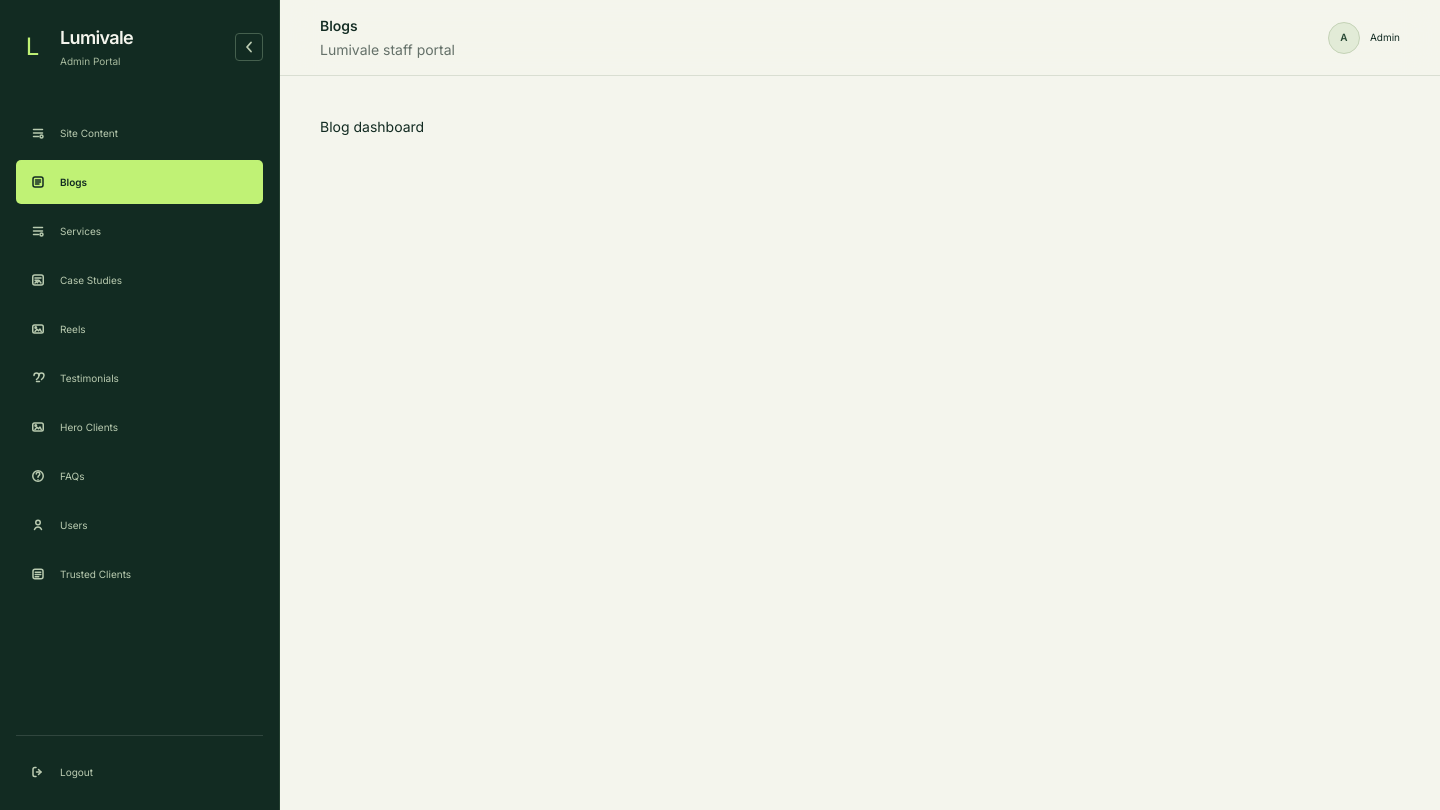
it: admin shell › hides the desktop logo block and reduces the workspace offset when collapsed
The image size is (1440, 810).
Expected: the text "Lumivale" is shown, [60,27,133,48]
Expected: the text "Admin Portal" is shown, [60,55,120,67]
Click the button named "Collapse navigation" at (249, 46), box [235,32,263,60]
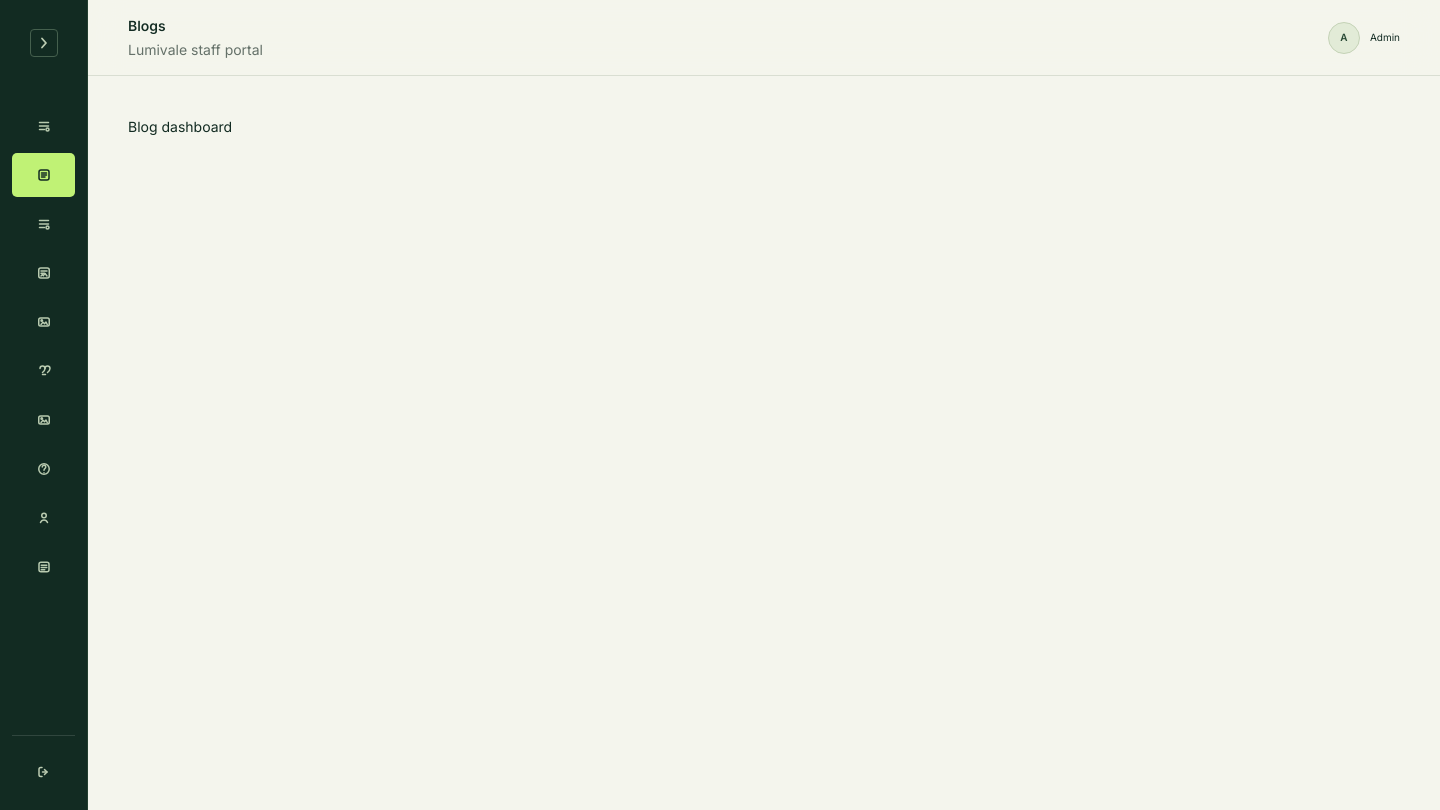
Expected: the text "Lumivale" is not shown
Expected: the button named "Expand navigation" is collapsed, [30,29,58,57]
Expected: the link "Admin Portal" is gone
